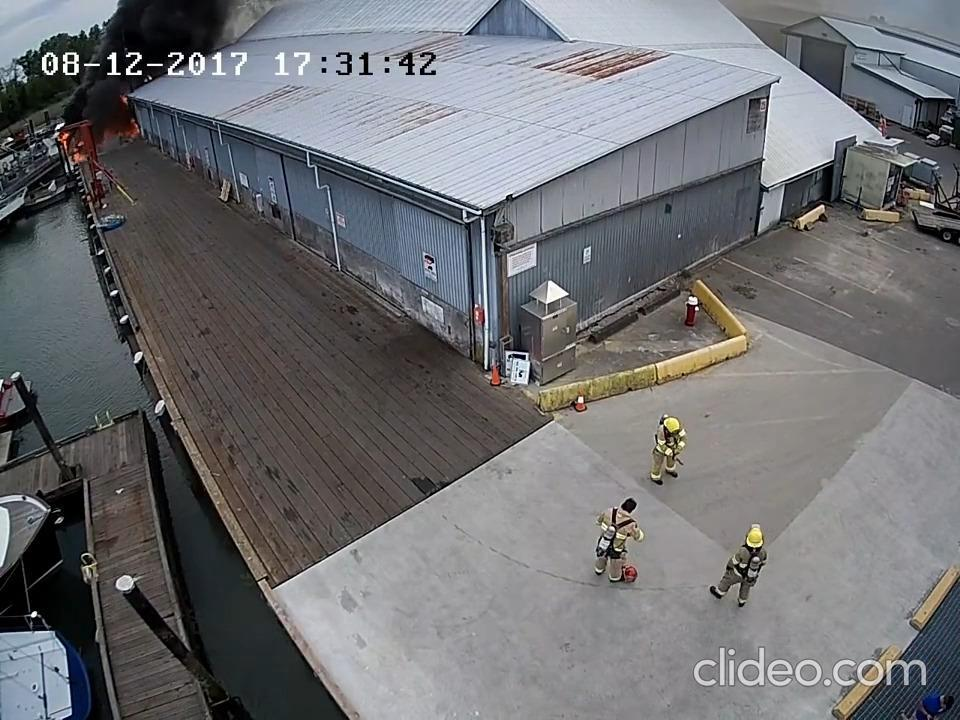fire: (53, 127, 92, 169), (112, 90, 140, 145)
